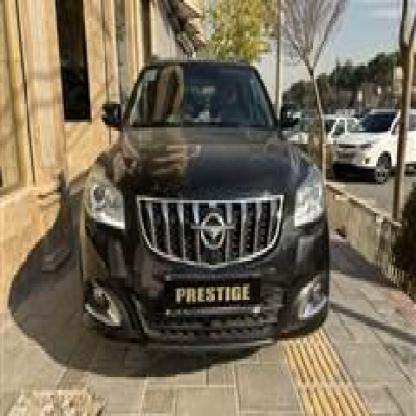Car: (69, 54, 331, 374), (329, 101, 416, 208), (288, 104, 355, 182)
